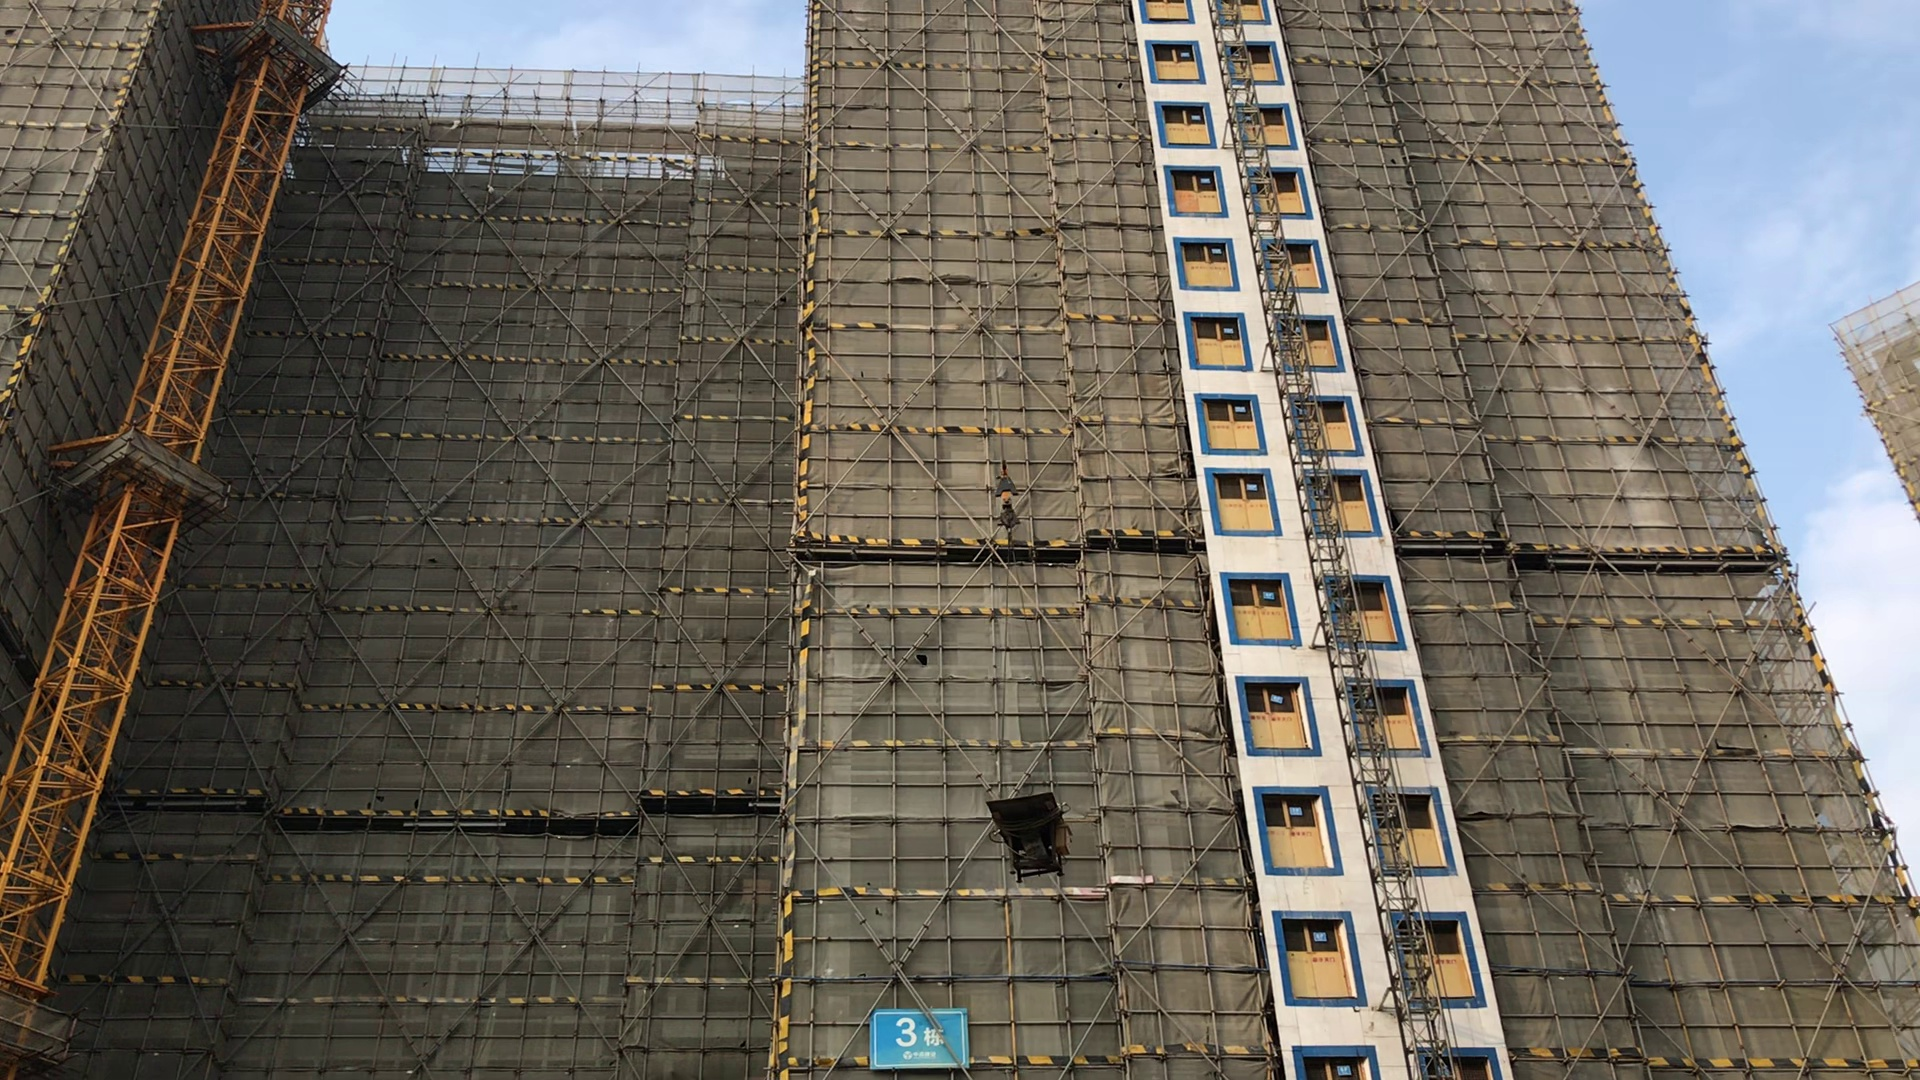hook: (986, 464, 1025, 535)
